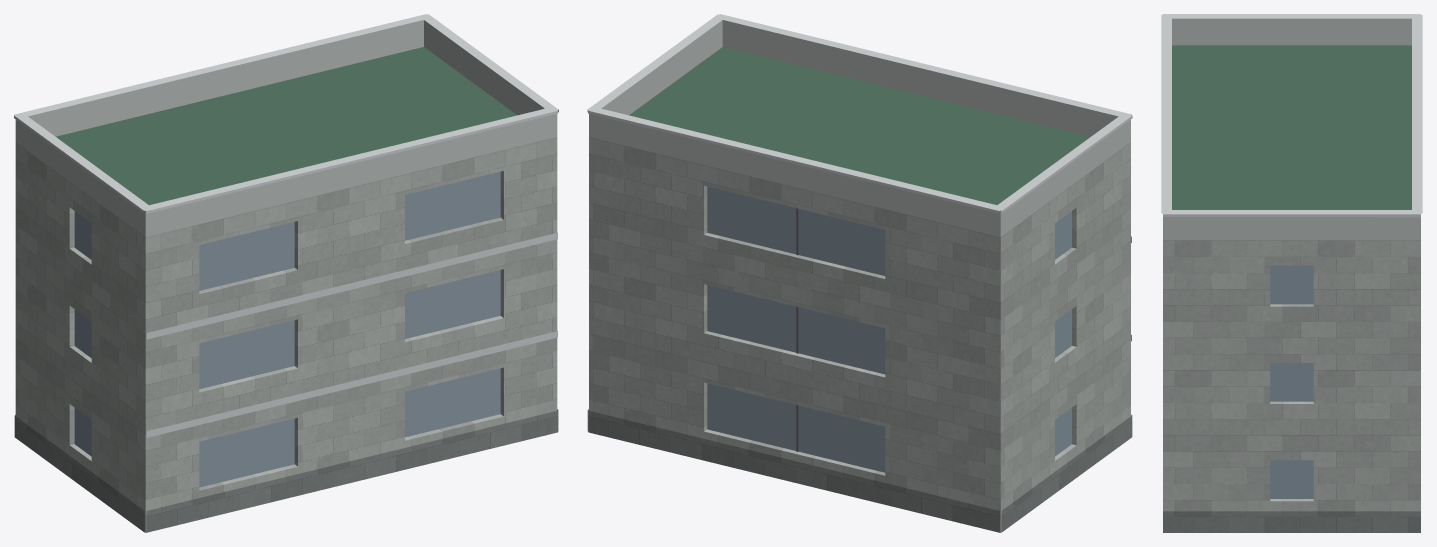
3 renders of one model, left to right at view 1: azimuth 30°, elevation 25°; view 2: azimuth 150°, elevation 25°; view 3: azimuth 270°, elevation 25°, orthographic.
Visible parts, largest first — view 1: b111__wall, b111__roof, b111__glass, b111__parapet, b111__trim, b111__base; view 2: b111__wall, b111__roof, b111__glass, b111__parapet, b111__base, b111__trim; view 3: b111__wall, b111__roof, b111__parapet, b111__trim, b111__base, b111__glass.
Boxes of the visible parts, x1,y1,x2,y2 form: b111__wall: [15, 137, 557, 532]; b111__roof: [56, 47, 516, 532]; b111__glass: [74, 171, 500, 487]; b111__parapet: [15, 20, 557, 237]; b111__trim: [14, 14, 558, 437]; b111__base: [14, 409, 558, 532]; b111__wall: [589, 137, 1130, 532]; b111__roof: [629, 47, 1090, 532]; b111__glass: [707, 186, 1071, 472]; b111__parapet: [589, 20, 1130, 237]; b111__base: [587, 409, 1132, 532]; b111__trim: [587, 14, 1132, 341]; b111__wall: [1163, 240, 1420, 511]; b111__roof: [1172, 45, 1411, 209]; b111__parapet: [1163, 18, 1420, 240]; b111__trim: [1161, 14, 1422, 217]; b111__base: [1163, 511, 1420, 532]; b111__glass: [1270, 265, 1313, 498].
Bounding box in the file's own units: 15.9 × 11.81 × 8.77.
7 materials, 2 textured.
